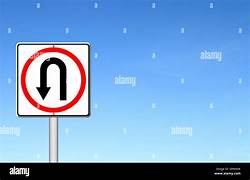back: (17, 44, 86, 112)
